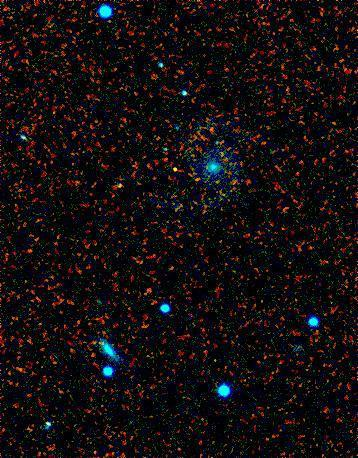star: (160, 151, 190, 181)
